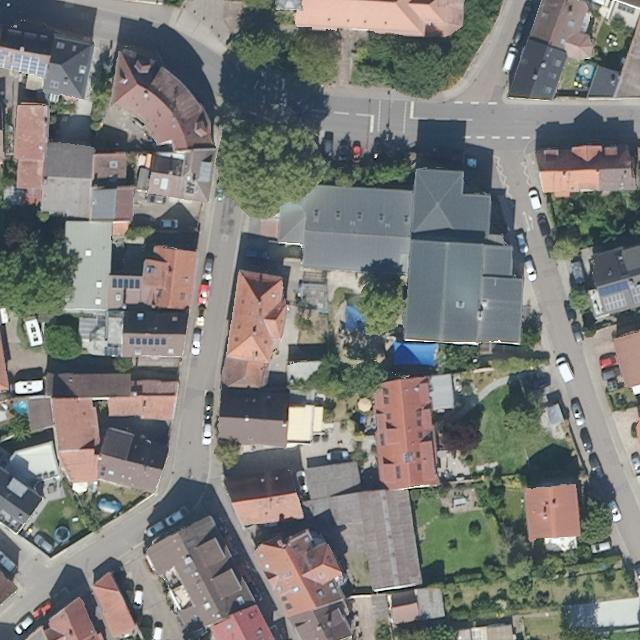PV: (1, 48, 48, 81), (602, 289, 630, 315), (110, 276, 141, 291), (127, 336, 168, 347), (617, 3, 636, 16), (630, 286, 639, 305)
